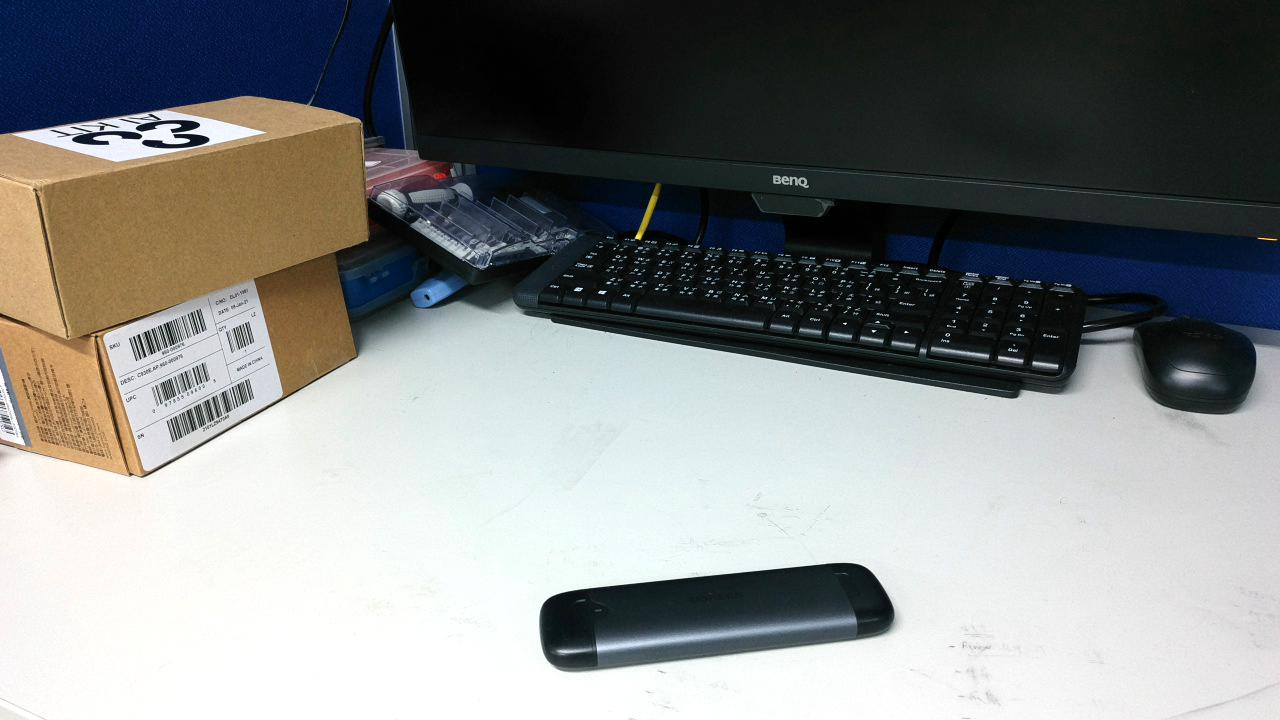blade: (390, 409, 441, 473)
grasp: (376, 469, 508, 604)
